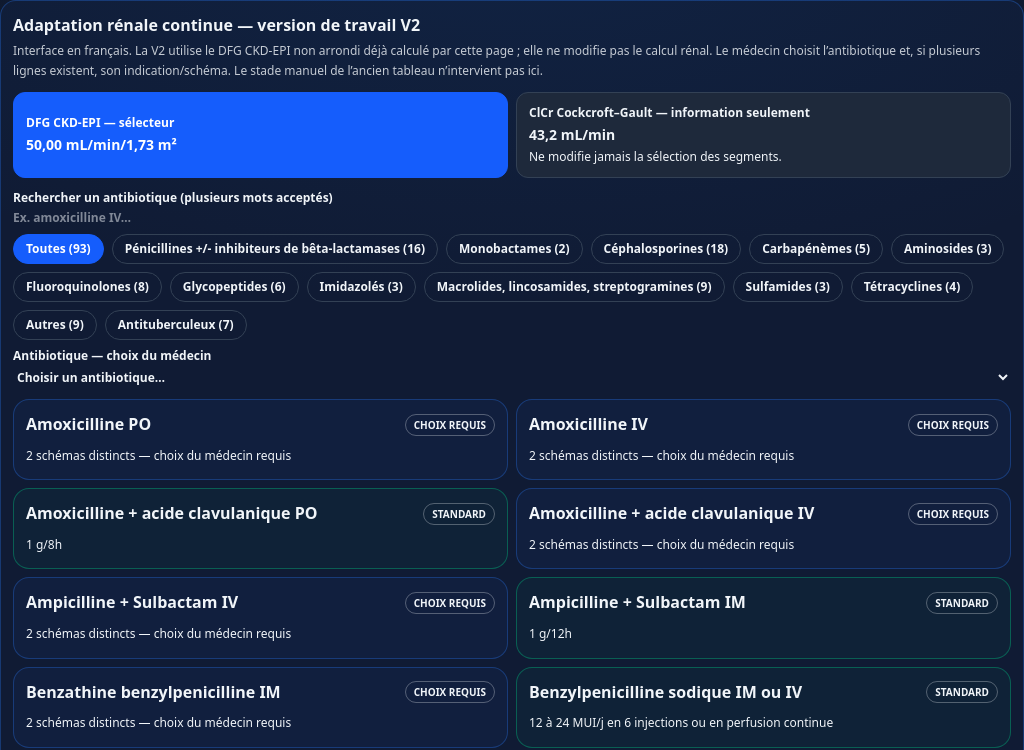
Scenario: intégration du sélecteur rénal V2 › filtre par plusieurs mots sans accents et détaille les intervalles avec la ligne patient
In the field labelled "Rechercher un antibiotique (plusieurs mots acceptés)": x=512, y=218 x1=13 y1=210 x2=1011 y2=226, type "cefepime im"
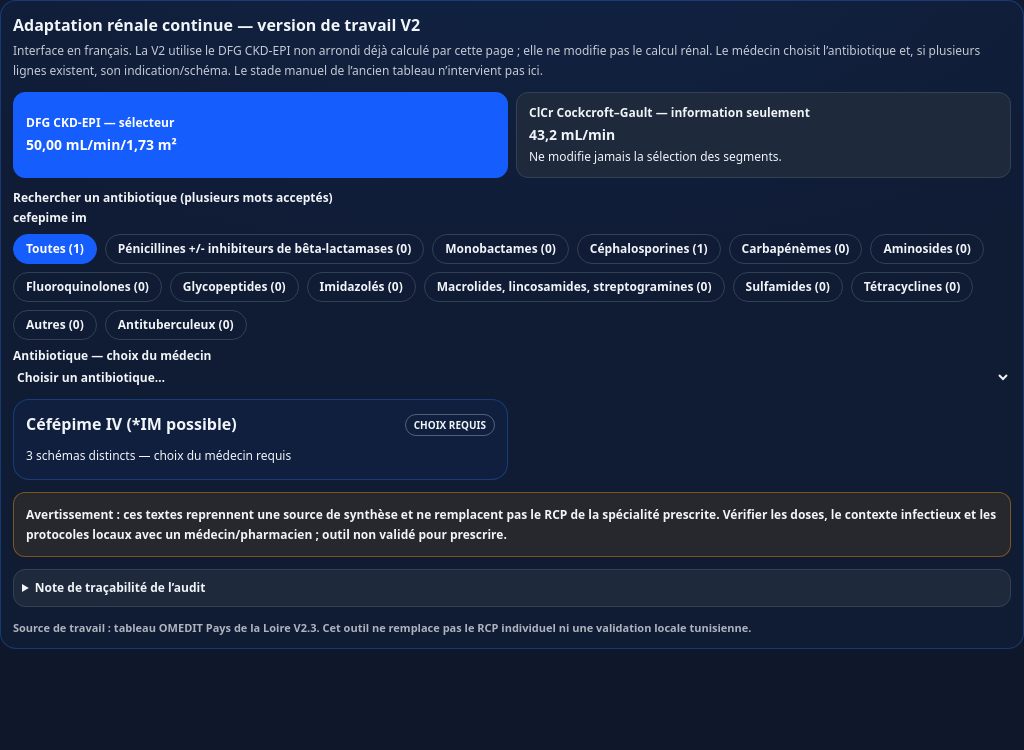
Select "Céfépime IV (*IM possible)" in the dropdown labelled "Antibiotique — choix du médecin": x=512, y=378 x1=13 y1=368 x2=1011 y2=387
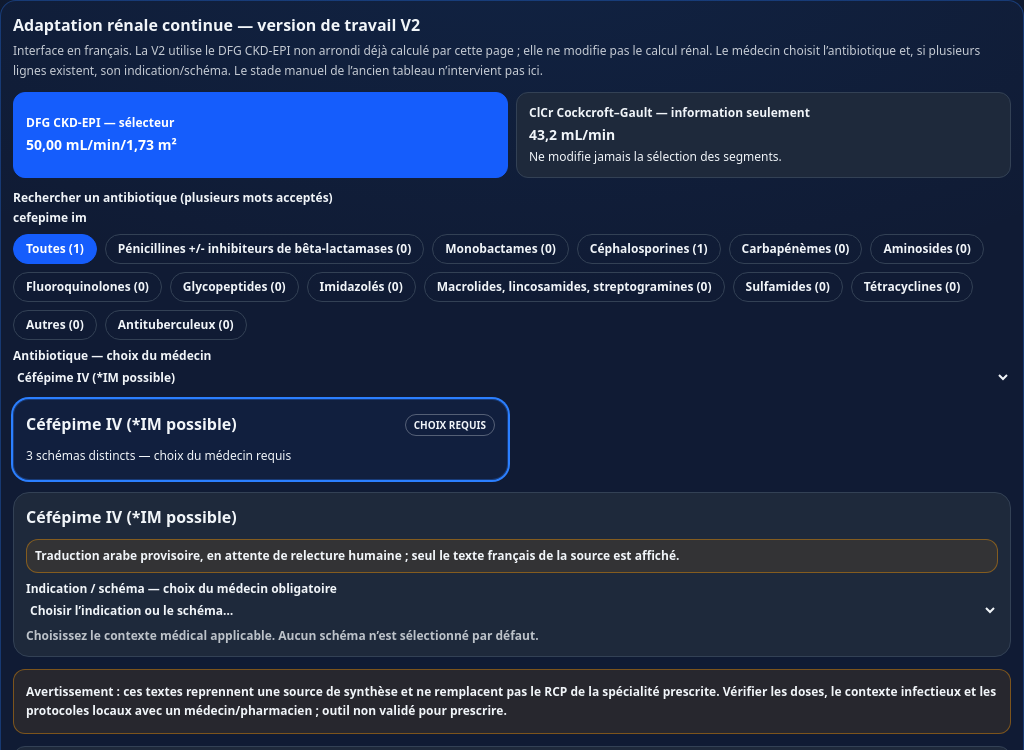
Select "Infection sévère · IV · L2" in the dropdown named "Indication et schéma — choix du médecin": x=512, y=610 x1=26 y1=601 x2=998 y2=620
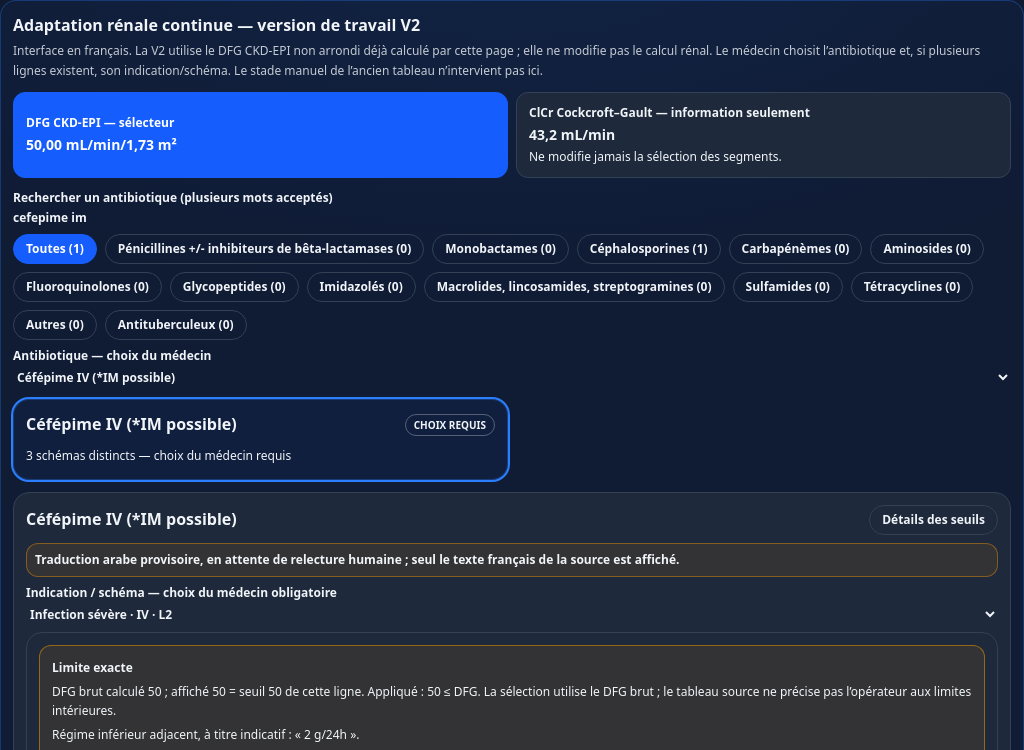
Click the button "ClCr Cockcroft–Gault — information seulement": x=669, y=112 x1=516 y1=92 x2=1011 y2=178
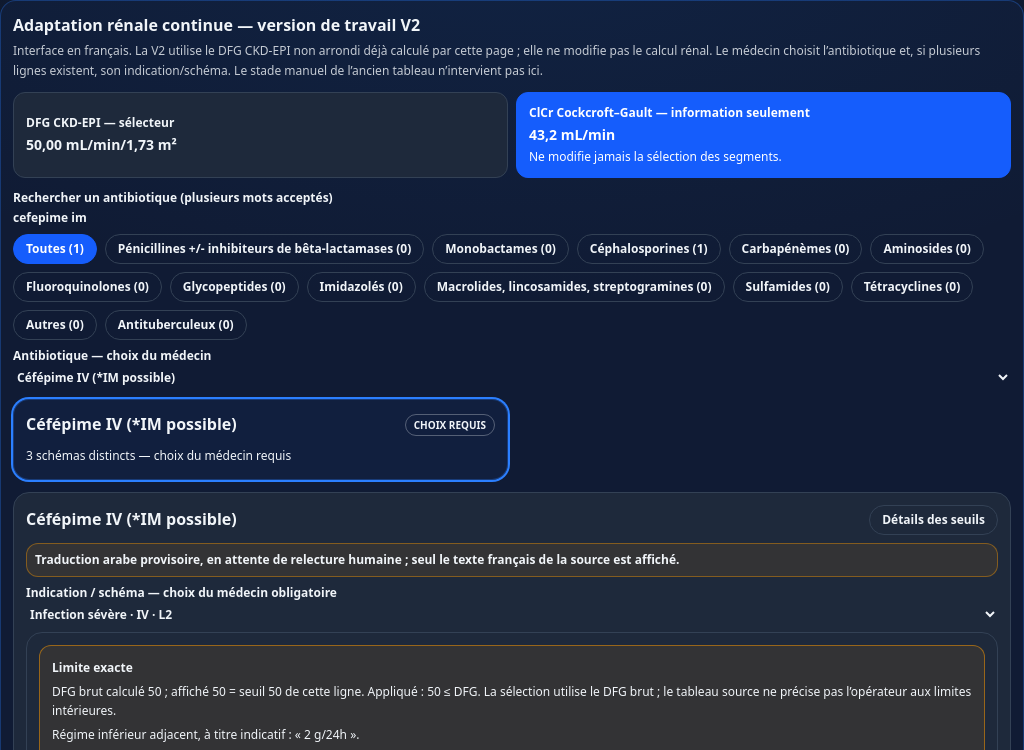
Result: the element with test id "atb-v2-result" shows "Limite exacte" at x1=52 y1=659 x2=133 y2=676
Click the button "Détails des seuils": x=934, y=520 x1=869 y1=505 x2=998 y2=535
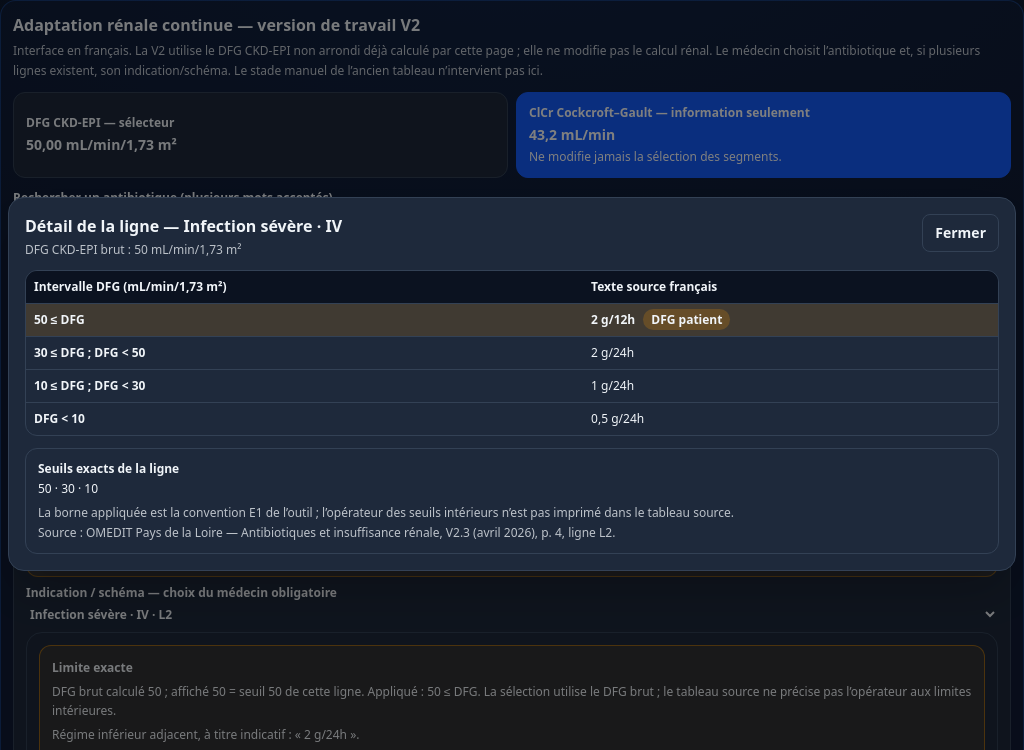
Result: the dialog shows "2 g/12h" at x1=591 y1=311 x2=635 y2=328
Result: the dialog shows "50" at x1=134 y1=241 x2=148 y2=258
Result: the dialog shows "DFG patient" at x1=651 y1=311 x2=722 y2=328
